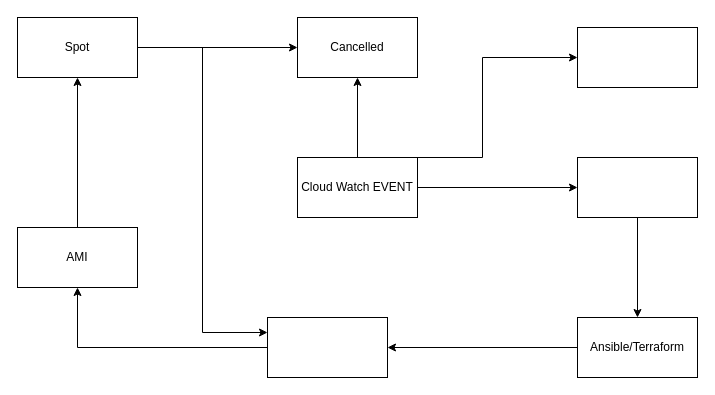
Some shapes in this 715 by 395 pixel diagram are drawn without their labels. The shapes that lost their labels are listed below. From the top down, each one's box as (x1, y1, x2, y2) in pixels, then its label:
(576, 26, 698, 88): Notification
(576, 156, 698, 218): Lambda
(266, 316, 388, 378): Snapshot
